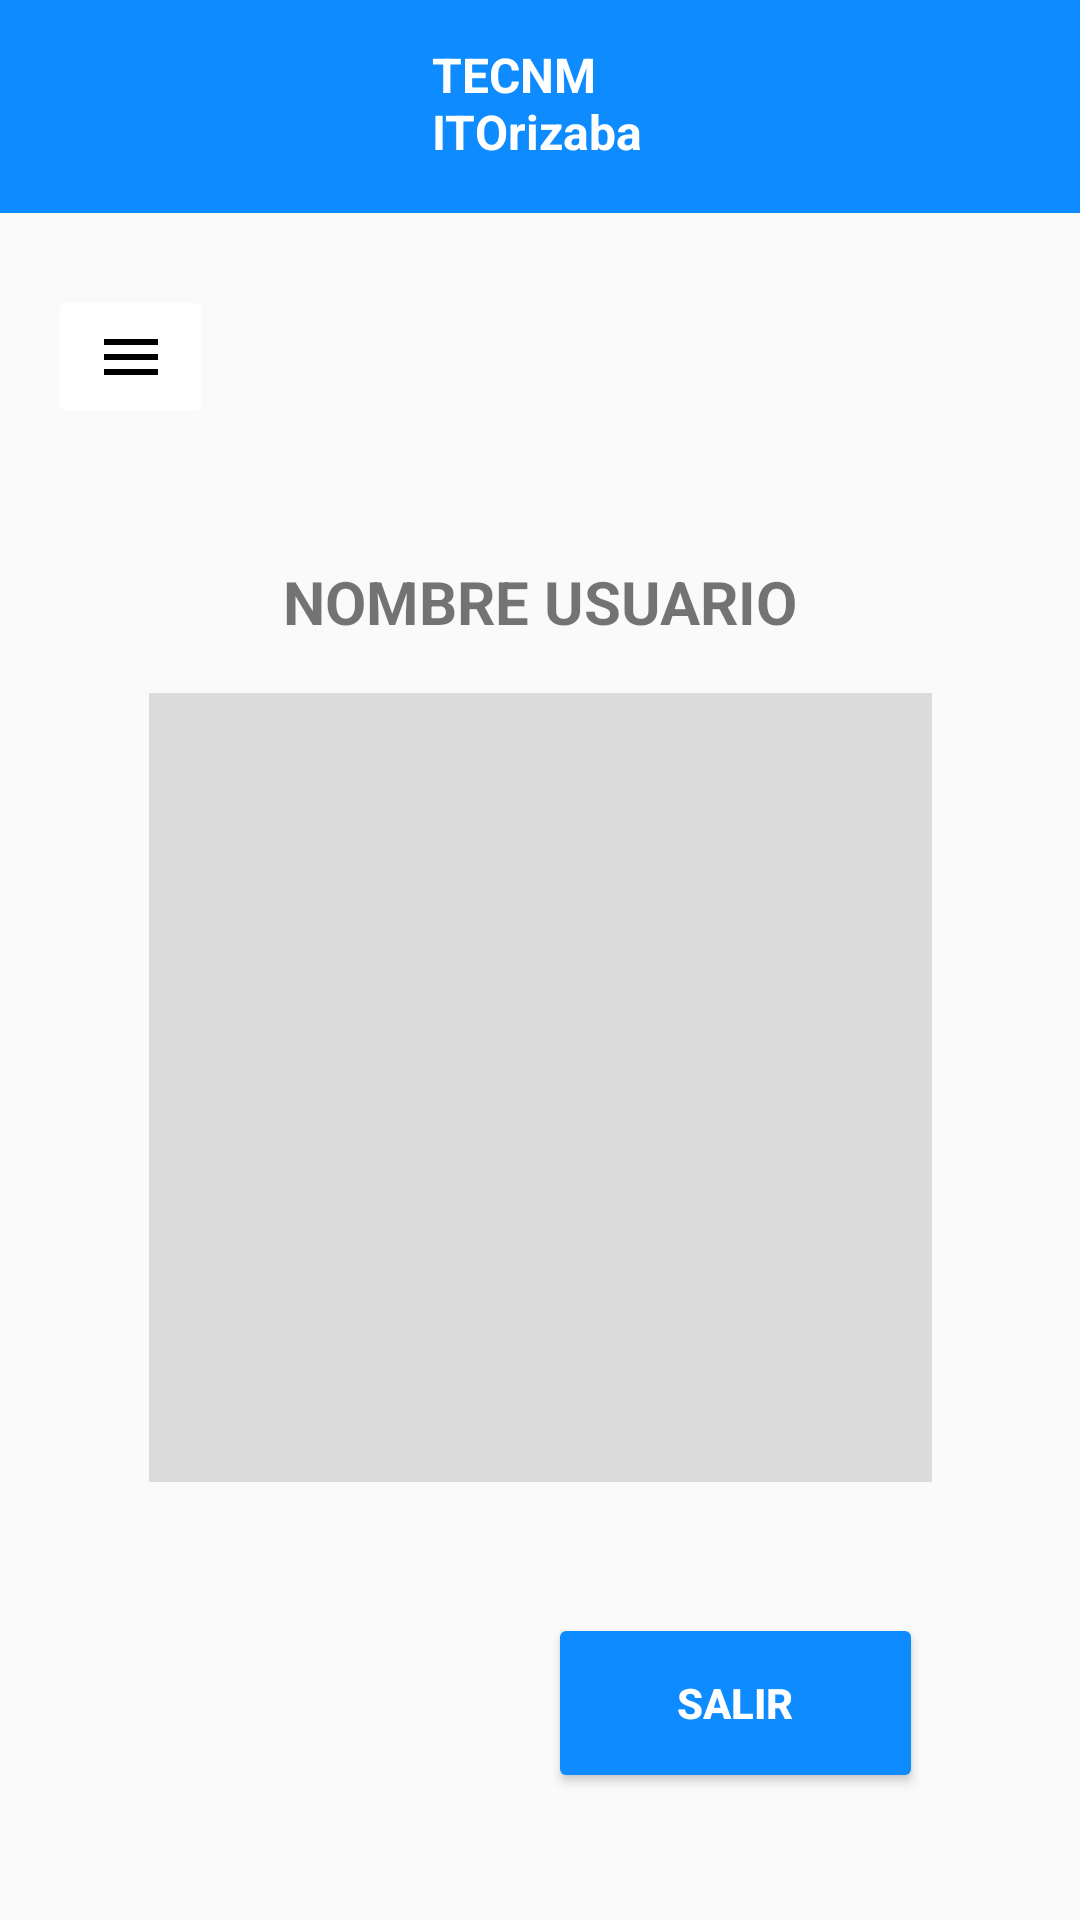

Named icons in this screenshot (1080*1920) and their bounding boxes, [x1=x1, y1=y1, x2=x2, y2=y2]:
Menu opciones: [x1=104, y1=339, x2=158, y2=375]
